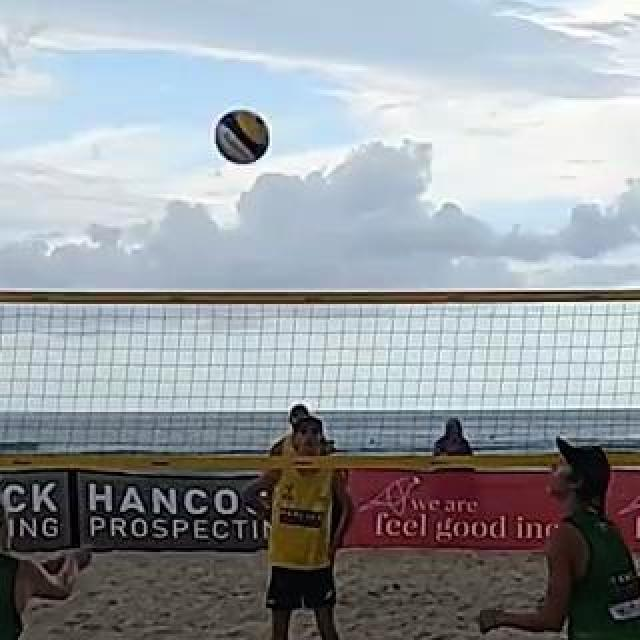volleyball: (214, 110, 270, 164)
